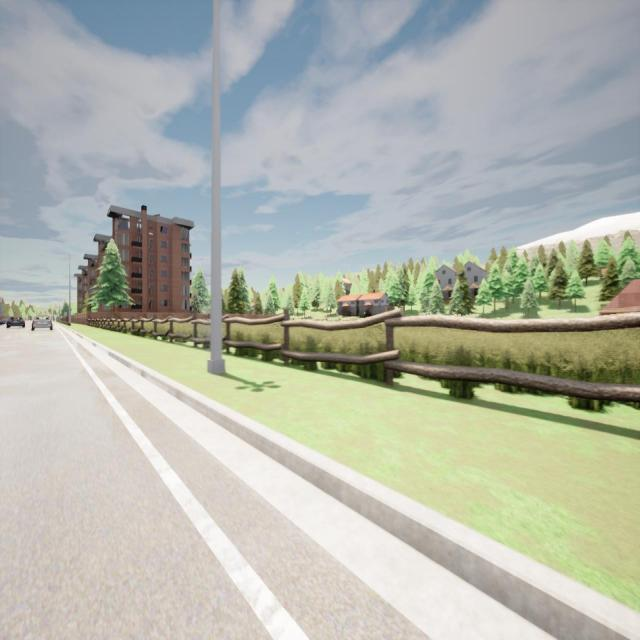Vehicle: (31, 314, 53, 330), (7, 315, 26, 328), (0, 318, 7, 326)
